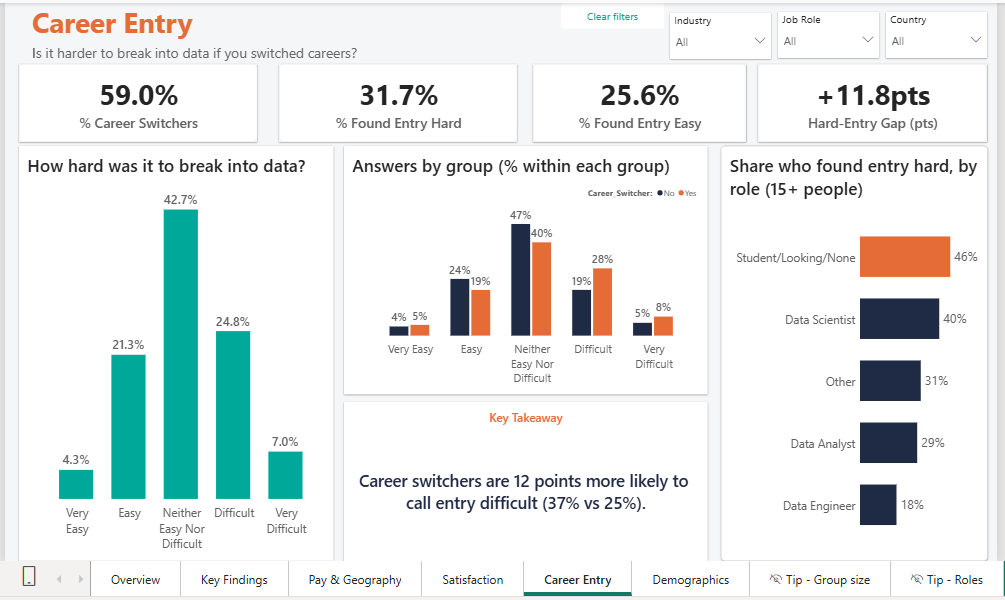

The dashboard page shown, as its layout file describes it:
{"tool":"powerbi","page":{"name":"Career Entry","canvas":[1920,1080],"ordinal":4},"visuals":[{"type":"textbox","box":[53.1,0,508.1,76.5],"z":0},{"type":"textbox","box":[53.1,76.5,831.3,40.4],"z":1000},{"type":"slicer","fields":{"Values":["Data Professional Survey.Industry"]},"box":[1286.2,18.6,196.1,88.8],"z":2000},{"type":"slicer","fields":{"Values":["Data Professional Survey.Job Role"]},"box":[1496.8,16.5,196.1,88.8],"z":3000},{"type":"slicer","fields":{"Values":["Data Professional Survey.Country"]},"box":[1705.3,16.5,196.1,88.8],"z":4000},{"type":"cardVisual","fields":{"Data":["_Measures.% Career Switchers"]},"box":[26.8,117.7,461,150.9],"z":5000},{"type":"cardVisual","fields":{"Data":["_Measures.% Found Entry Hard"]},"box":[530.6,117.7,461.3,150.9],"z":6000},{"type":"cardVisual","fields":{"Data":["_Measures.% Found Entry Easy"]},"box":[1021.9,117.7,412.9,150.7],"z":7000},{"type":"cardVisual","fields":{"Data":["_Measures.Hard-Entry Gap (pts)"]},"box":[1457.5,117.7,443.9,150.7],"z":8000},{"type":"clusteredColumnChart","title":"How hard was it to break into data?","fields":{"Category":["Data Professional Survey.Transition_into_Data"],"Y":["_Measures.Total Respondents"]},"box":[26.8,276.6,609,803.1],"z":9000},{"type":"clusteredBarChart","title":"Share who found entry hard, by role (15+ people)","fields":{"Category":["Data Professional Survey.Job Role"],"Y":["_Measures.% Found Entry Hard"]},"box":[1385.3,276.6,516.1,803.1],"z":10000},{"type":"card","title":"Key Takeaway","fields":{"Values":["_Measures.Entry Insight"]},"box":[656.5,772.1,704,307.6],"z":11000},{"type":"clusteredColumnChart","title":"Answers by group (% within each group)","fields":{"Category":["Data Professional Survey.Transition_into_Data"],"Series":["Data Professional Survey.Career_Switch"],"Y":["_Measures.% of Group"]},"box":[656.5,276.6,704,481],"z":12000},{"type":"actionButton","box":[1075.6,0,200,50],"z":13000}]}

Visuals, with their boxes on the page's 1920x1080 design canvas (x1, y1, x2, y2). These are canvas units, not pixel positions in the 1005x600 screenshot, which may show the page scaled, cropped or inside an application window:
textbox: bbox(53, 0, 561, 76)
textbox: bbox(53, 76, 884, 117)
slicer - Data Professional Survey.Industry: bbox(1286, 19, 1482, 107)
slicer - Data Professional Survey.Job Role: bbox(1497, 16, 1693, 105)
slicer - Data Professional Survey.Country: bbox(1705, 16, 1901, 105)
cardVisual - _Measures.% Career Switchers: bbox(27, 118, 488, 269)
cardVisual - _Measures.% Found Entry Hard: bbox(531, 118, 992, 269)
cardVisual - _Measures.% Found Entry Easy: bbox(1022, 118, 1435, 268)
cardVisual - _Measures.Hard-Entry Gap (pts): bbox(1458, 118, 1901, 268)
"How hard was it to break into data?" clusteredColumnChart: bbox(27, 277, 636, 1080)
"Share who found entry hard, by role (15+ people)" clusteredBarChart: bbox(1385, 277, 1901, 1080)
"Key Takeaway" card: bbox(656, 772, 1360, 1080)
"Answers by group (% within each group)" clusteredColumnChart: bbox(656, 277, 1360, 758)
actionButton: bbox(1076, 0, 1276, 50)
